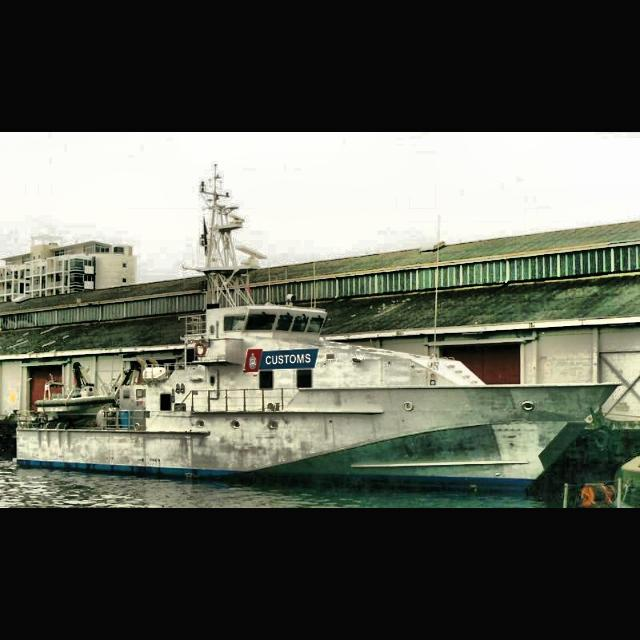patrol_vessel: (12, 160, 624, 494)
